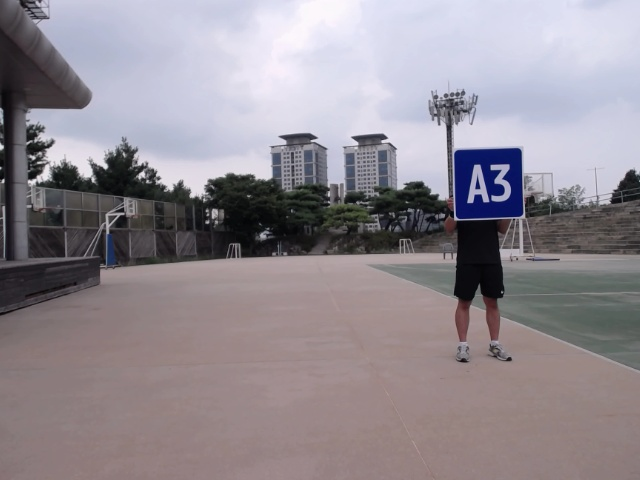delivery_a3: (453, 147, 525, 220)
